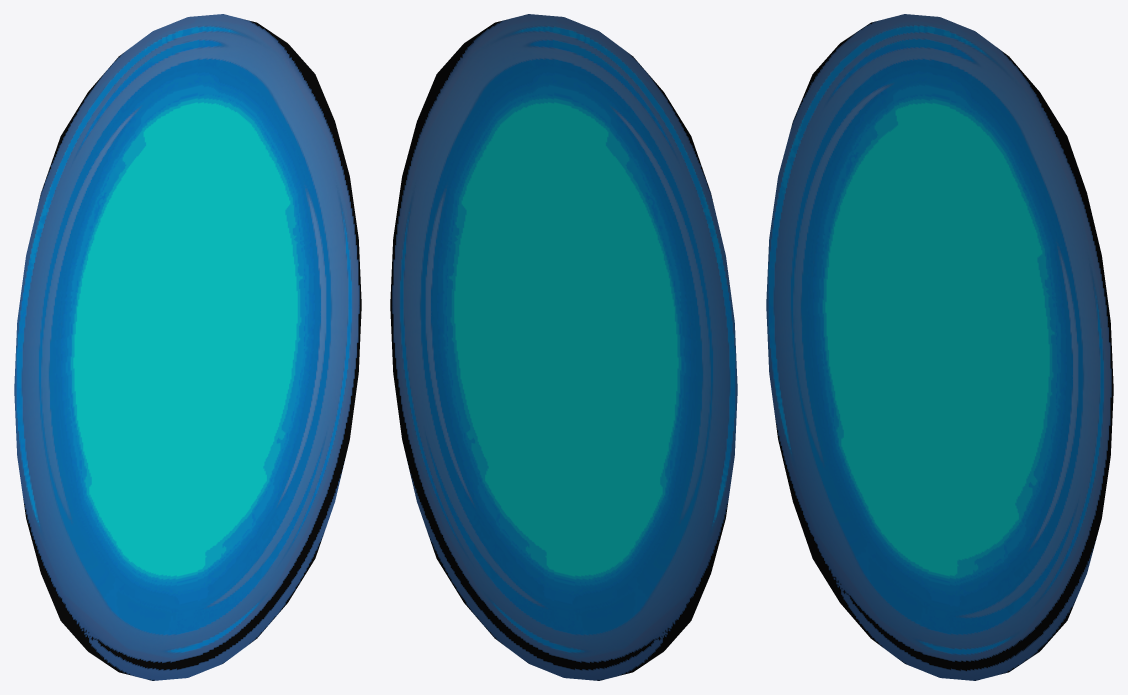
File: portal.glb
3 views of the same model, side by side, from view 1: azimuth 30°, elevation 25°; view 2: azimuth 150°, elevation 25°; view 3: azimuth 330°, elevation 25° (orthographic).
Parts seen in each view (by area): view 1: Plane; view 2: Plane; view 3: Plane.
Boxes of the visible parts, bbox=[...] form: Plane: bbox=[14, 14, 361, 680]; Plane: bbox=[390, 14, 737, 680]; Plane: bbox=[766, 14, 1113, 680].
Size of the model in its own units: 1.83 by 3.33 by 7.4e-16.
1 material, 1 textured.
